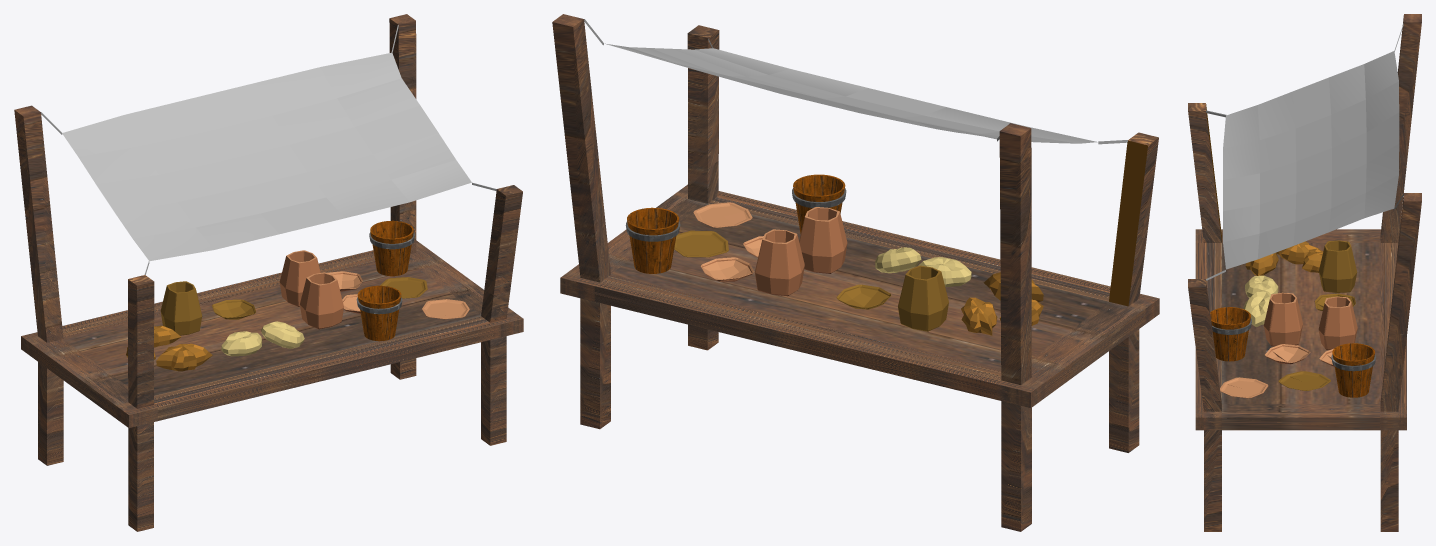
Rendered from crafting stall.glb.
3 views of the same model, side by side, from view 1: azimuth 30°, elevation 25°; view 2: azimuth 150°, elevation 25°; view 3: azimuth 270°, elevation 25° (orthographic). The views are drawn at different scales.
Visible parts, largest first — view 1: Plane.002; view 2: Plane.002; view 3: Plane.002.
Boxes of the visible parts, x1,y1,x2,y2 form: Plane.002: (14,14,523,531); Plane.002: (552,14,1159,531); Plane.002: (1188,14,1421,531).
Bounding box in the file's own units: 1.9 × 1.58 × 0.9964.
21 materials, 3 textured.
